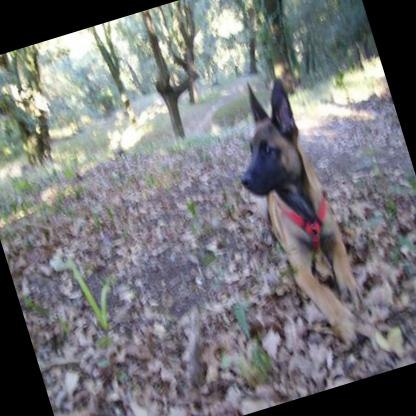malinois: (212, 68, 373, 360)
